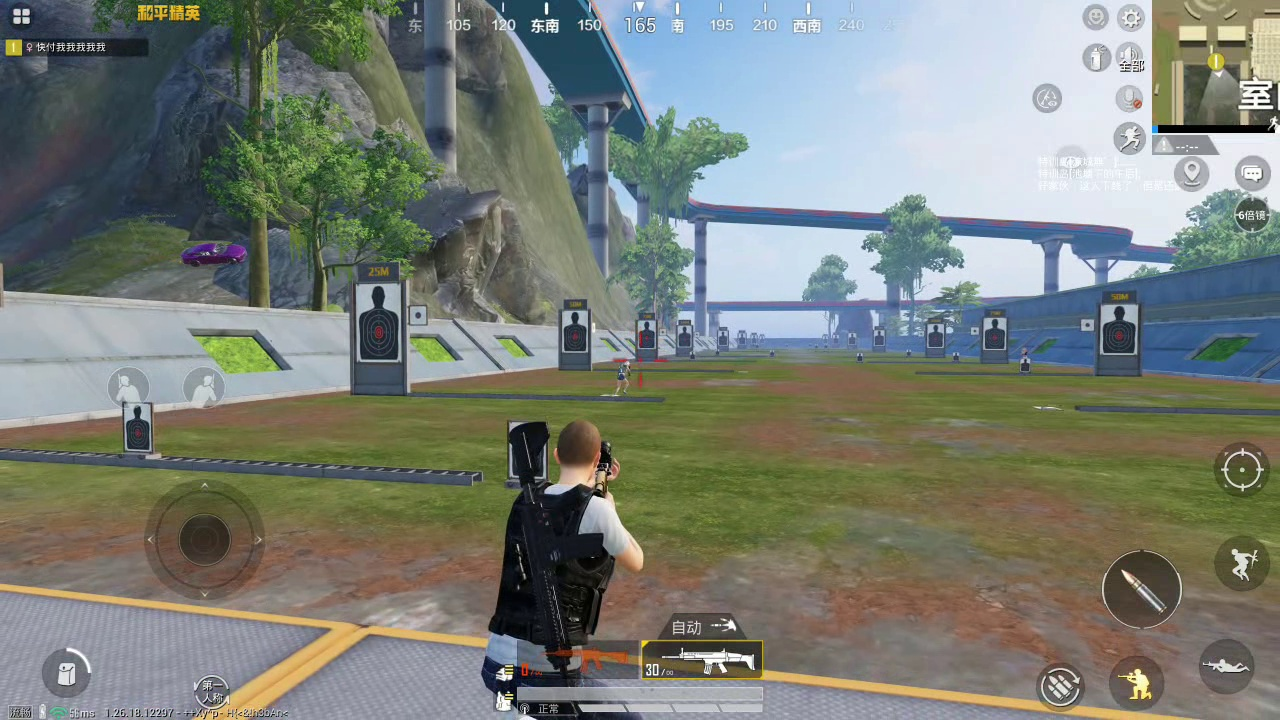enemy: (613, 358, 631, 396)
